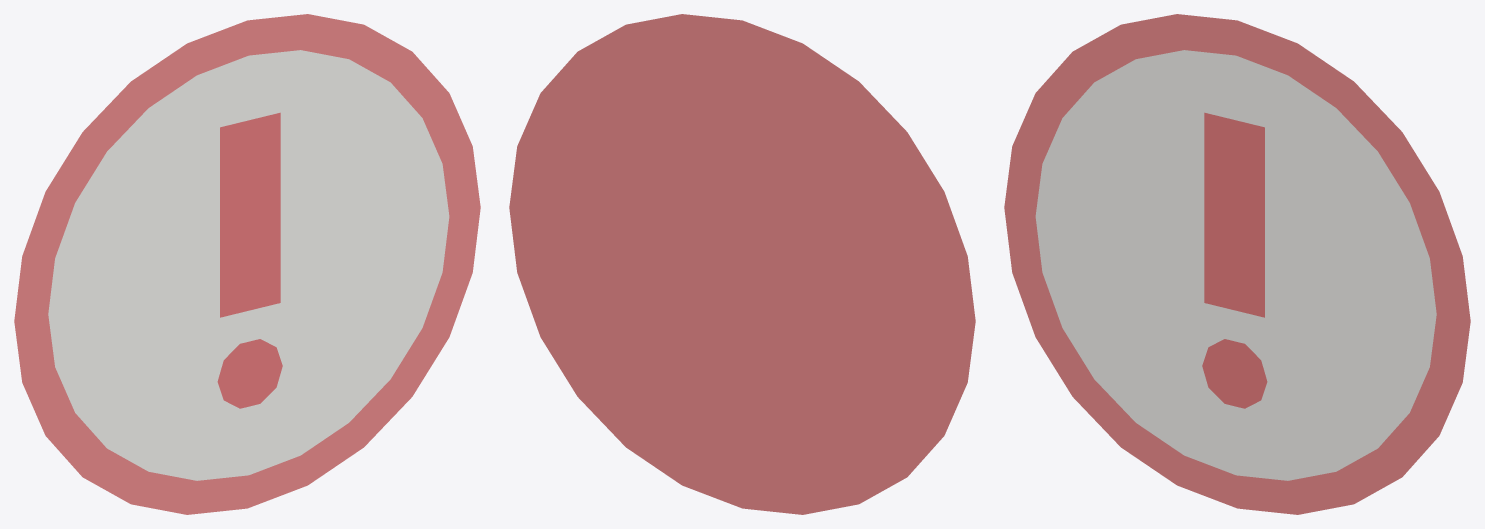
Rendered from bang.glb.
3 views of the same model, side by side, from view 1: azimuth 30°, elevation 25°; view 2: azimuth 150°, elevation 25°; view 3: azimuth 330°, elevation 25° (orthographic).
Size of the model in its own units: 2 by 2 by 0.02.
